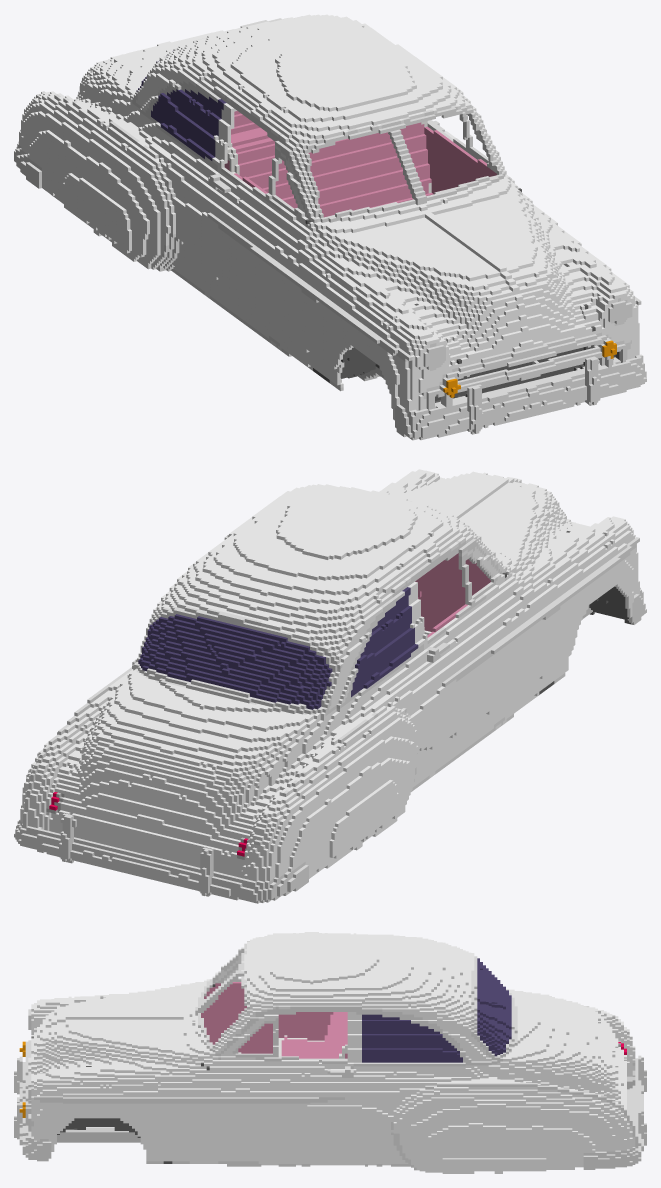
File: chevy-styleline-1950.glb
3 renders of one model, top to bottom at view 1: azimuth 30°, elevation 25°; view 2: azimuth 150°, elevation 25°; view 3: azimuth 270°, elevation 25°, orthographic. The views are drawn at different scales.
Parts seen in each view (by area): view 1: styleline-1950; view 2: styleline-1950; view 3: styleline-1950.
Boxes of the visible parts, x1=… form: styleline-1950: x1=14, y1=14, x2=646, y2=440; styleline-1950: x1=14, y1=469, x2=646, y2=903; styleline-1950: x1=14, y1=932, x2=646, y2=1173.
Bounding box in the file's own units: 1.94 × 1.46 × 5.02.
Materials: 1 (1 with a texture image).
